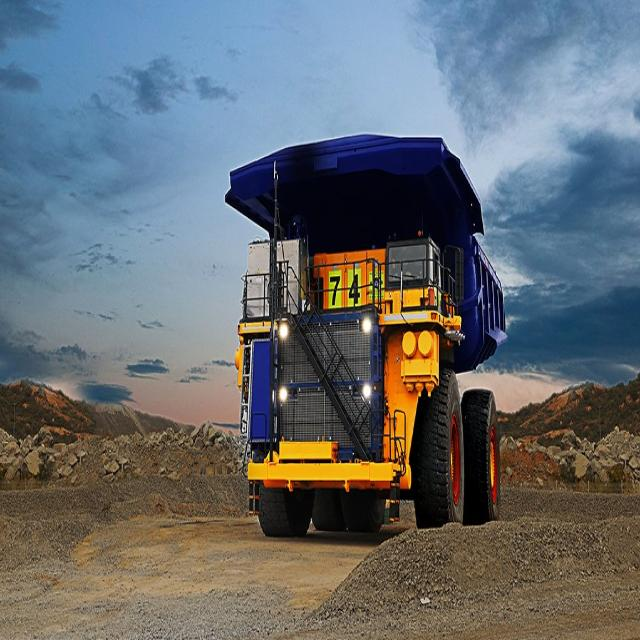dump_truck: (222, 113, 530, 558)
